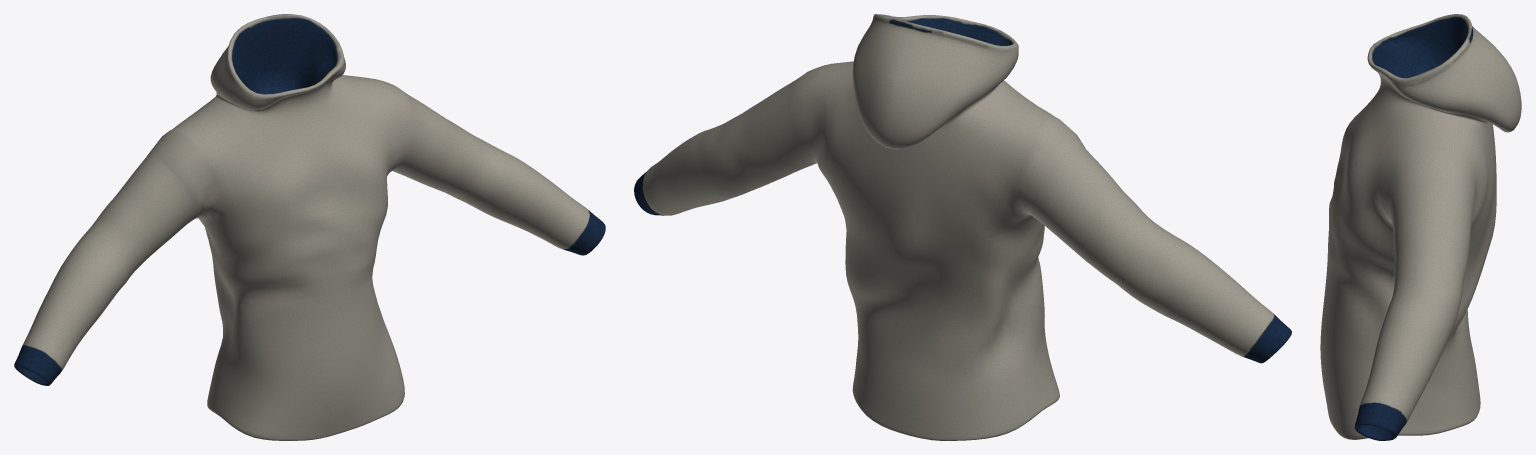
Rendered from hoodie.glb.
The picture shows the model from 3 angles, left to right: view 1: azimuth 30°, elevation 25°; view 2: azimuth 150°, elevation 25°; view 3: azimuth 270°, elevation 25°; orthographic projection. The views are drawn at different scales.
Visible parts, largest first — view 1: g; view 2: g; view 3: g.
Boxes of the visible parts, x1=… form: g: x1=14, y1=14, x2=605, y2=440; g: x1=634, y1=14, x2=1291, y2=440; g: x1=1320, y1=14, x2=1521, y2=440.
Size of the model in its own units: 1.22 by 0.7363 by 0.3534.
Materials: 1 (1 with a texture image).
